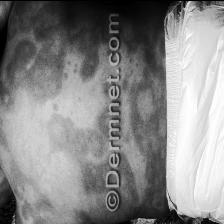Toxin: (15, 12, 107, 86), (129, 16, 165, 202), (50, 119, 102, 190)
